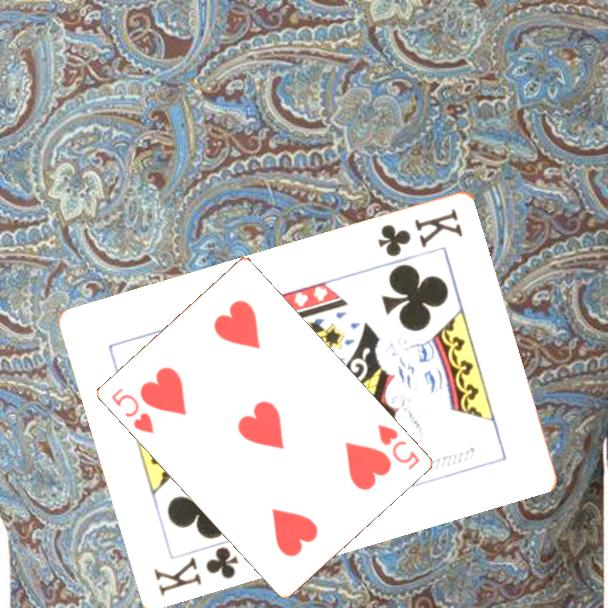c13: (151, 542, 242, 598), (374, 204, 466, 259)
h05: (107, 384, 157, 436), (373, 421, 422, 473)
